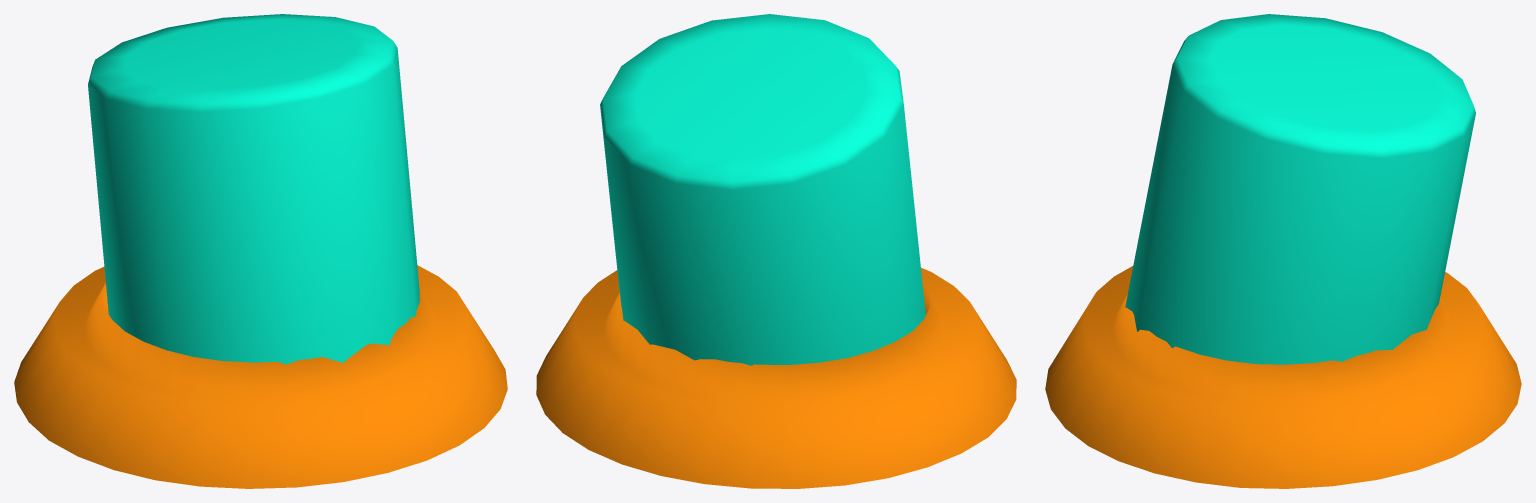
Rendered from Lago_Nubecita HP.fbx.
The picture shows the model from 3 angles, left to right: view 1: azimuth 30°, elevation 25°; view 2: azimuth 150°, elevation 25°; view 3: azimuth 270°, elevation 25°; orthographic projection.
Visible parts, largest first — view 1: Nubecita HP; view 2: Nubecita HP; view 3: Nubecita HP.
Boxes of the visible parts, x1,y1,x2,y2 form: Nubecita HP: [14, 14, 507, 488]; Nubecita HP: [536, 14, 1016, 488]; Nubecita HP: [1045, 14, 1521, 488].
Size of the model in its own units: 126 by 94.1 by 123.
